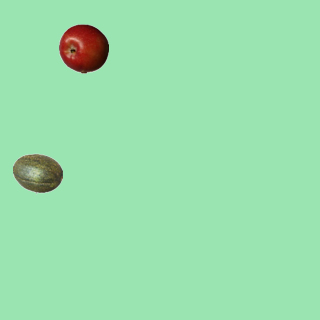Apple Braeburn: (58, 23, 108, 73)
Melon Piel de Sapo: (12, 148, 62, 198)
